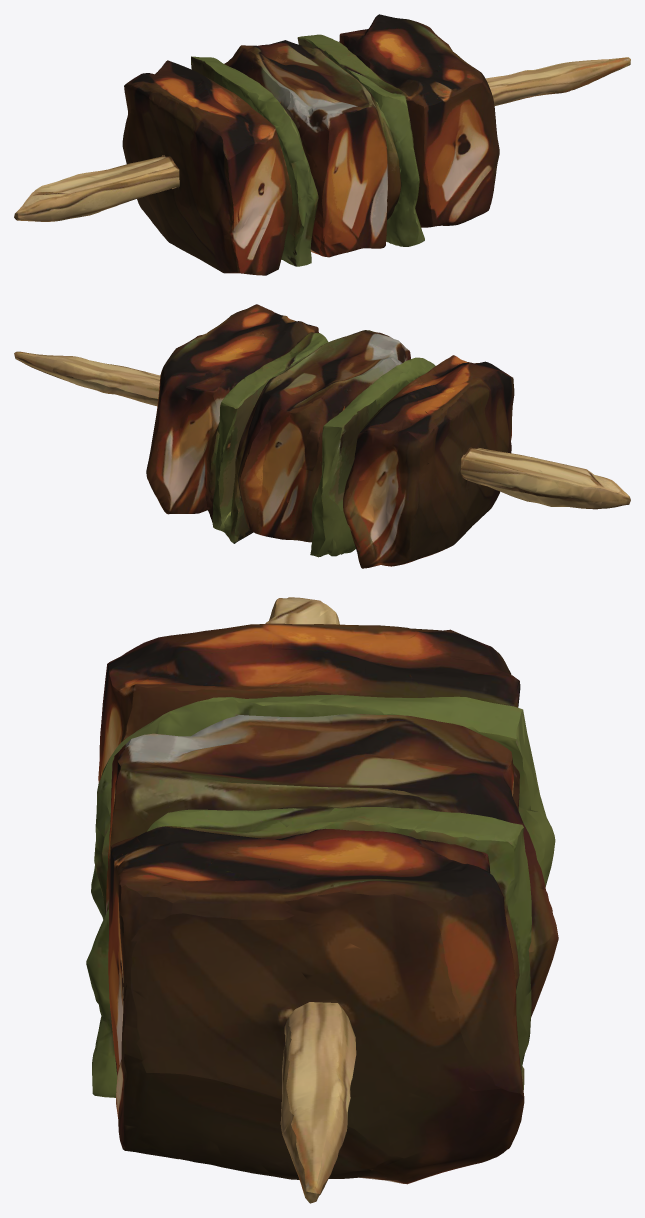
The model's file is food_meat_roasted.glb.
3 renders of one model, top to bottom at view 1: azimuth 30°, elevation 25°; view 2: azimuth 150°, elevation 25°; view 3: azimuth 270°, elevation 25°, orthographic. The views are drawn at different scales.
Visible parts, largest first — view 1: food_meat_roasted; view 2: food_meat_roasted; view 3: food_meat_roasted.
Part boxes in pixels (x1=…): food_meat_roasted: x1=14, y1=14, x2=630, y2=275; food_meat_roasted: x1=14, y1=304, x2=630, y2=568; food_meat_roasted: x1=86, y1=597, x2=558, y2=1203.
Size of the model in its own units: 0.3 by 0.0772 by 0.1005.
1 material, 1 textured.
